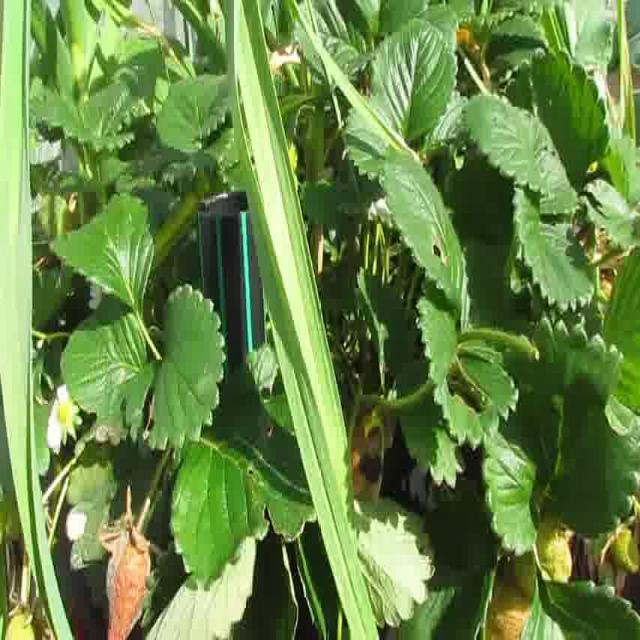Fruta sana: (513, 522, 572, 610), (481, 585, 542, 640), (610, 526, 640, 576), (284, 136, 298, 176), (58, 404, 71, 424)
Moho gris: (106, 534, 152, 640)
